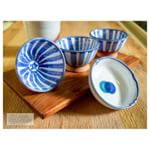cups: (53, 35, 97, 73), (88, 27, 129, 60)
